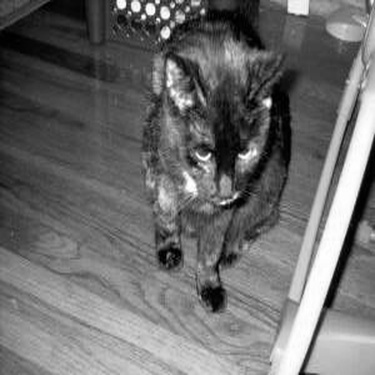cat: (137, 11, 295, 313)
